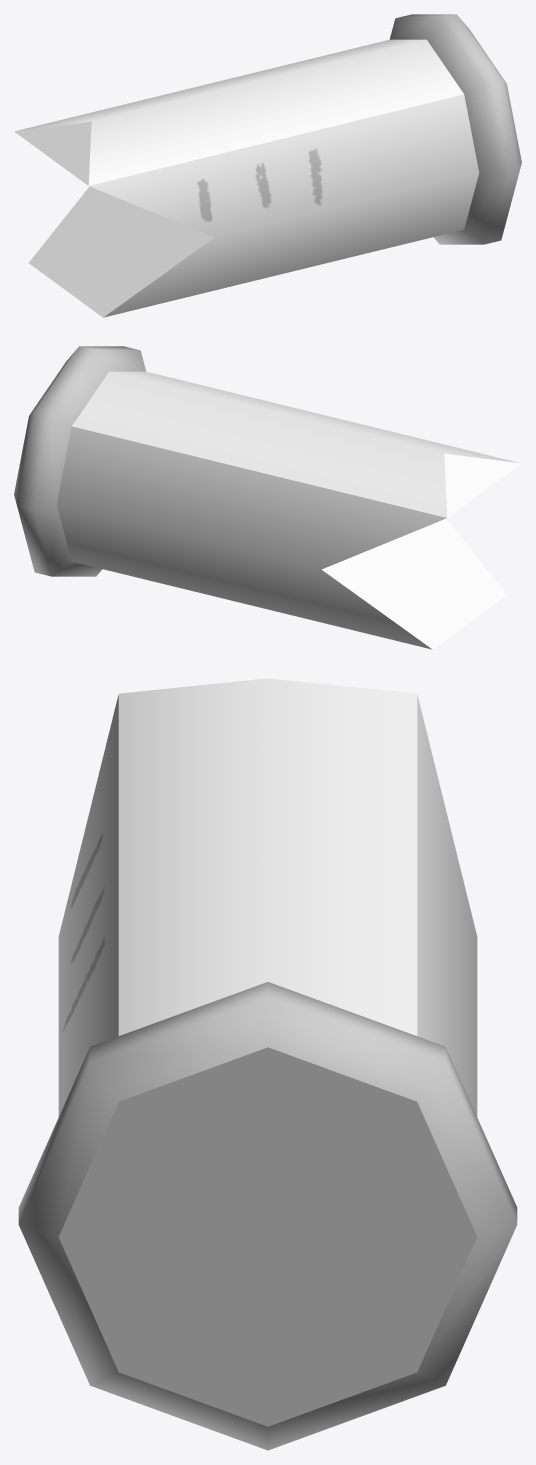
Rendered from broken_test_tube_right.fbx.
The picture shows the model from 3 angles, top to bottom: view 1: azimuth 30°, elevation 25°; view 2: azimuth 150°, elevation 25°; view 3: azimuth 270°, elevation 25°; orthographic projection. The views are drawn at different scales.
Parts seen in each view (by area): view 1: right; view 2: right; view 3: right.
Boxes of the visible parts, x1=… form: right: x1=14, y1=14, x2=521, y2=317; right: x1=14, y1=346, x2=521, y2=649; right: x1=18, y1=678, x2=517, y2=1450.
Bounding box in the file's own units: 2.79 × 1.44 × 1.44.
